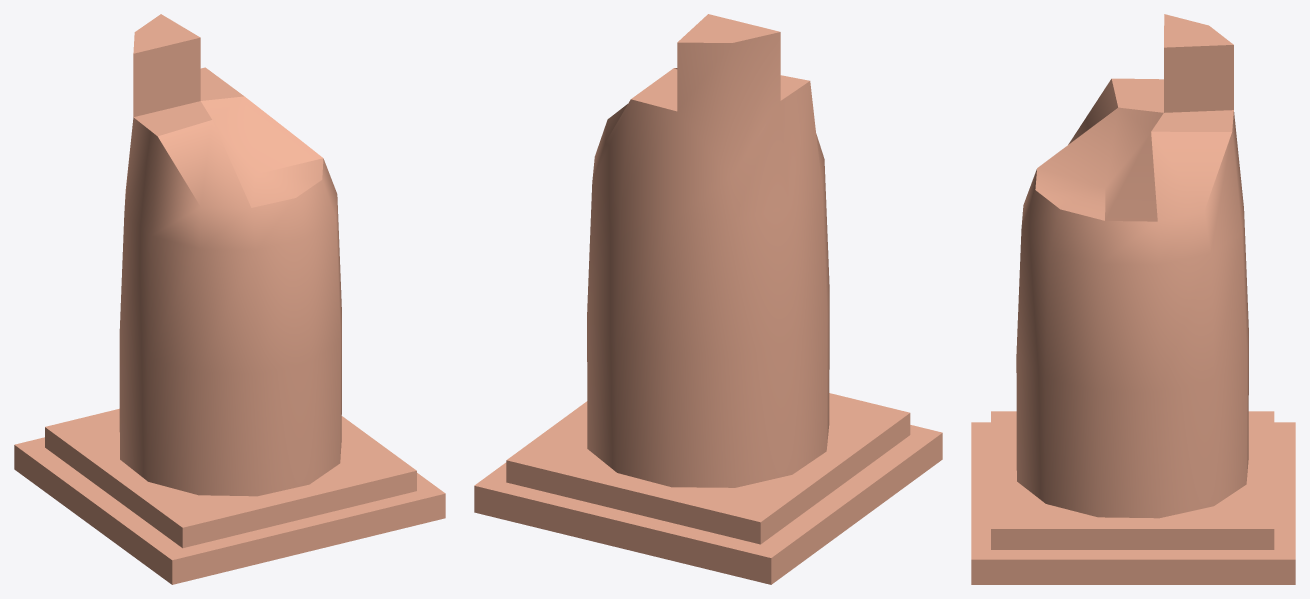
File: half_column.fbx
3 renders of one model, left to right at view 1: azimuth 30°, elevation 25°; view 2: azimuth 150°, elevation 25°; view 3: azimuth 270°, elevation 25°, orthographic. The views are drawn at different scales.
Parts seen in each view (by area): view 1: HalfColumn; view 2: HalfColumn; view 3: HalfColumn.
Boxes of the visible parts, x1=… form: HalfColumn: x1=14, y1=14, x2=445, y2=584; HalfColumn: x1=474, y1=14, x2=942, y2=584; HalfColumn: x1=971, y1=14, x2=1295, y2=584.
Bounding box in the file's own units: 200 × 314 × 200.
